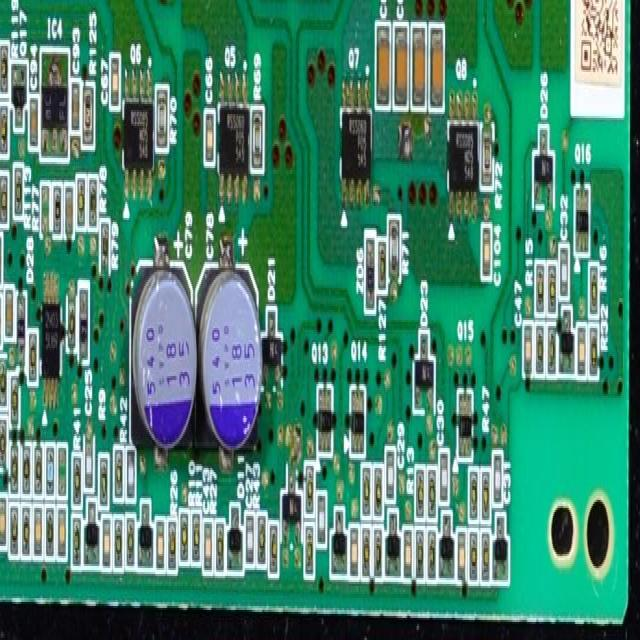IC: (41, 50, 69, 160), (44, 278, 64, 408)
capacitor: (133, 268, 197, 452), (200, 266, 262, 452), (428, 28, 444, 114), (375, 22, 390, 109), (393, 24, 408, 107), (412, 24, 426, 112), (56, 506, 69, 559), (385, 448, 396, 507), (84, 432, 95, 490), (110, 56, 122, 108), (559, 244, 570, 298), (202, 518, 213, 572), (71, 76, 81, 135), (481, 224, 491, 283), (4, 284, 14, 343), (101, 516, 112, 569), (244, 510, 254, 567), (155, 516, 165, 573), (524, 322, 534, 378), (33, 504, 43, 559), (316, 494, 326, 548), (439, 452, 449, 505), (404, 528, 414, 581), (493, 450, 502, 508), (349, 526, 359, 578), (456, 528, 466, 580), (205, 110, 214, 164), (29, 94, 38, 147), (577, 326, 586, 378), (0, 494, 7, 548), (0, 236, 3, 288), (0, 292, 1, 346)
resistor: (388, 216, 401, 285), (155, 84, 168, 152), (251, 110, 265, 172), (482, 124, 494, 190), (113, 514, 124, 573), (535, 258, 546, 316), (99, 452, 110, 510), (21, 504, 32, 562), (71, 452, 82, 508), (426, 464, 437, 520), (215, 520, 226, 576), (546, 260, 557, 315), (27, 330, 38, 385), (468, 468, 479, 523), (374, 524, 385, 579), (304, 460, 314, 519), (414, 466, 425, 519), (125, 516, 136, 568), (480, 530, 491, 582), (76, 174, 86, 231), (88, 174, 98, 231), (469, 532, 480, 583), (535, 322, 545, 378), (114, 446, 124, 502), (179, 510, 189, 566), (377, 238, 387, 293), (269, 522, 279, 577), (10, 442, 20, 496), (361, 466, 371, 520), (374, 466, 384, 520), (192, 510, 202, 564), (416, 528, 426, 582), (9, 504, 19, 557), (305, 524, 315, 577), (589, 324, 599, 376), (34, 444, 44, 495), (0, 42, 9, 98), (426, 528, 436, 578), (0, 172, 9, 226), (41, 184, 50, 238), (22, 444, 31, 498), (362, 526, 371, 580), (72, 518, 82, 566), (589, 264, 598, 317), (481, 470, 490, 523), (0, 104, 9, 156), (10, 376, 19, 427), (168, 516, 176, 573), (547, 326, 556, 375), (14, 164, 22, 218), (100, 218, 108, 271), (0, 358, 8, 410), (258, 514, 266, 566), (0, 418, 7, 468)
transistor: (123, 64, 154, 201), (448, 94, 481, 220), (219, 66, 249, 200), (343, 78, 371, 210), (573, 184, 590, 258), (316, 382, 333, 456), (456, 390, 473, 464), (349, 386, 366, 456)
